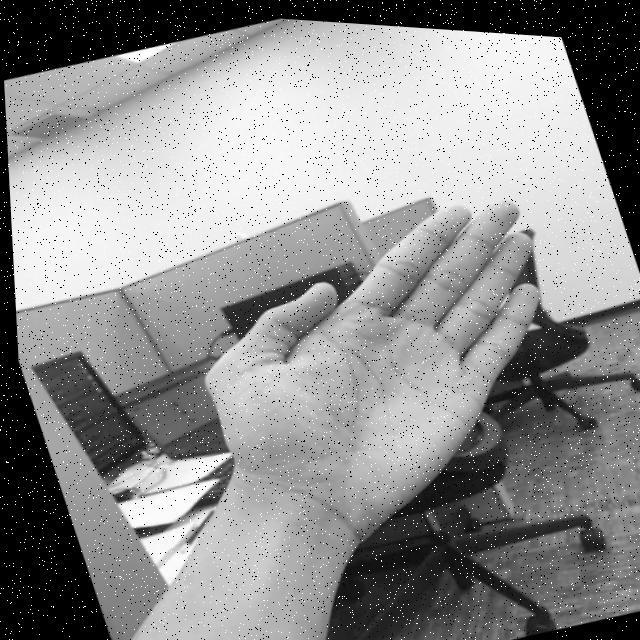no-gloves: (152, 162, 614, 584)
